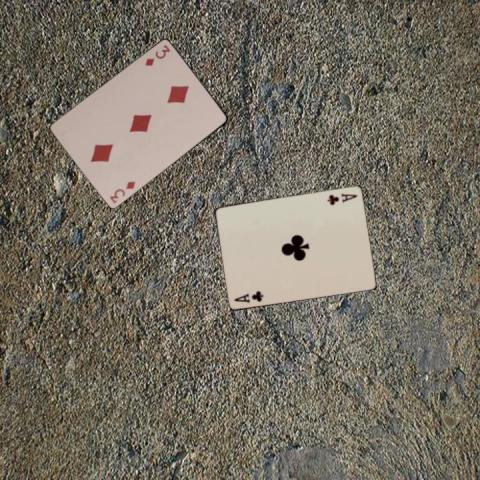3d: (107, 178, 137, 205), (142, 42, 172, 67)
Ac: (324, 190, 358, 206), (231, 288, 265, 304)
